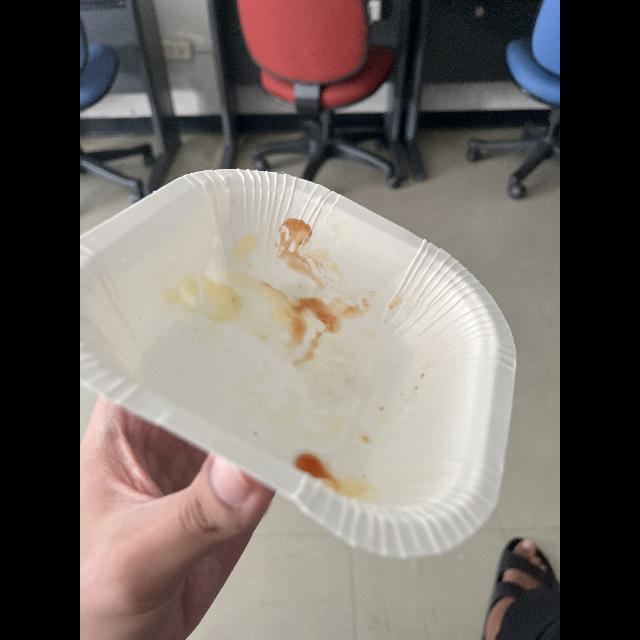cardboard_bowl: (80, 166, 520, 566)
